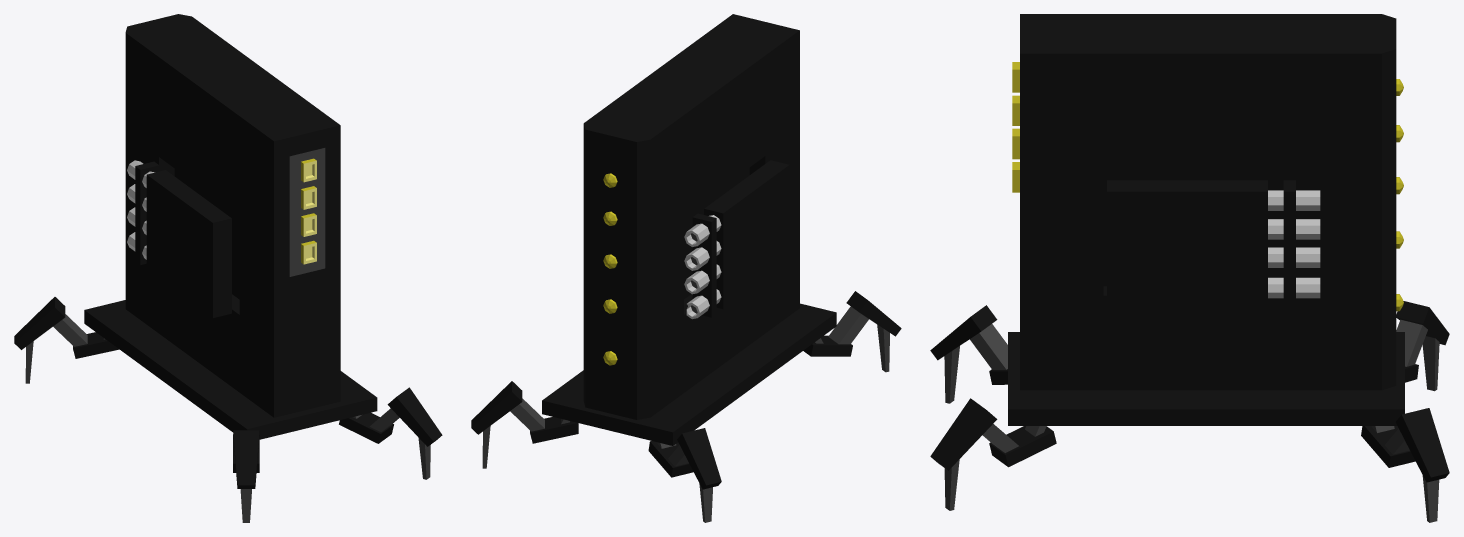
The model's file is roteador.fbx.
3 views of the same model, side by side, from view 1: azimuth 30°, elevation 25°; view 2: azimuth 150°, elevation 25°; view 3: azimuth 270°, elevation 25° (orthographic). The views are drawn at different scales.
Visible parts, largest first — view 1: Roteador; view 2: Roteador; view 3: Roteador.
Boxes of the visible parts, x1,y1,x2,y2 form: Roteador: (14,14,442,522); Roteador: (471,14,901,522); Roteador: (930,14,1449,522).
Bounding box in the file's own units: 95.76 × 127 × 142.
